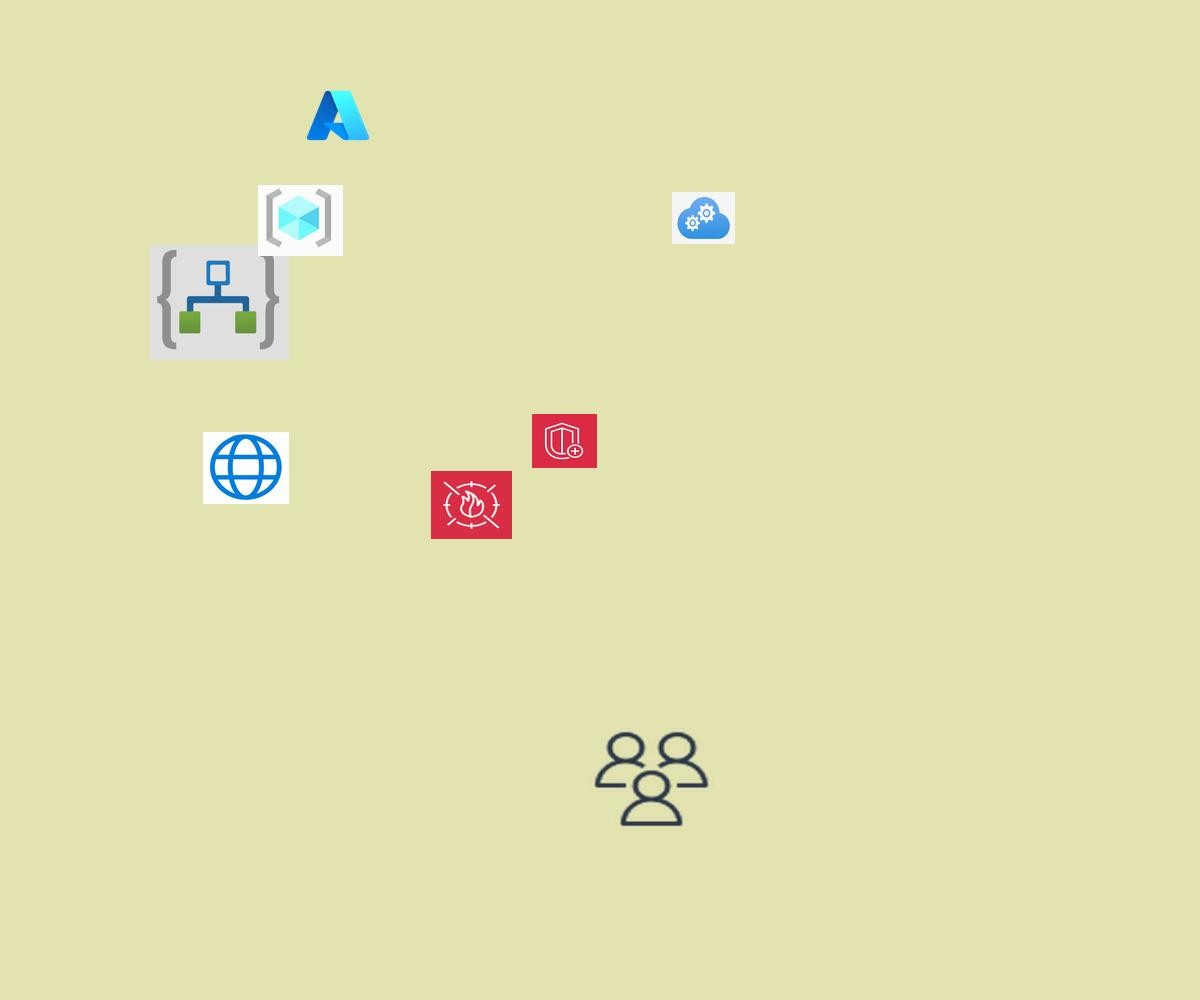AWS-Res_Users: (590, 728, 713, 830)
AWS-Shield: (532, 414, 597, 468)
AWS-WAF: (431, 471, 512, 539)
Azure_cloud_services: (672, 192, 735, 244)
Azure_http: (203, 432, 289, 504)
Azure_integration-204-Logic-Apps: (150, 245, 289, 360)
Azure_resource_group: (258, 185, 343, 256)
Azure_services: (304, 87, 372, 144)
